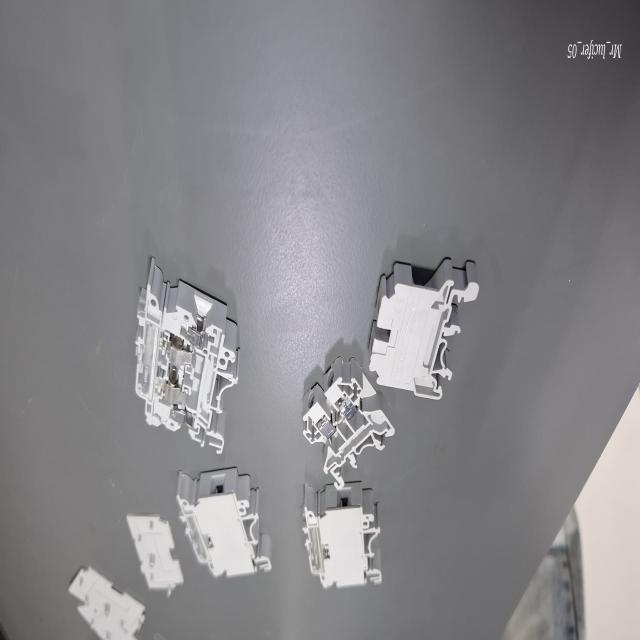Inverted: (366, 222, 489, 462)
Pass: (294, 356, 401, 482)
